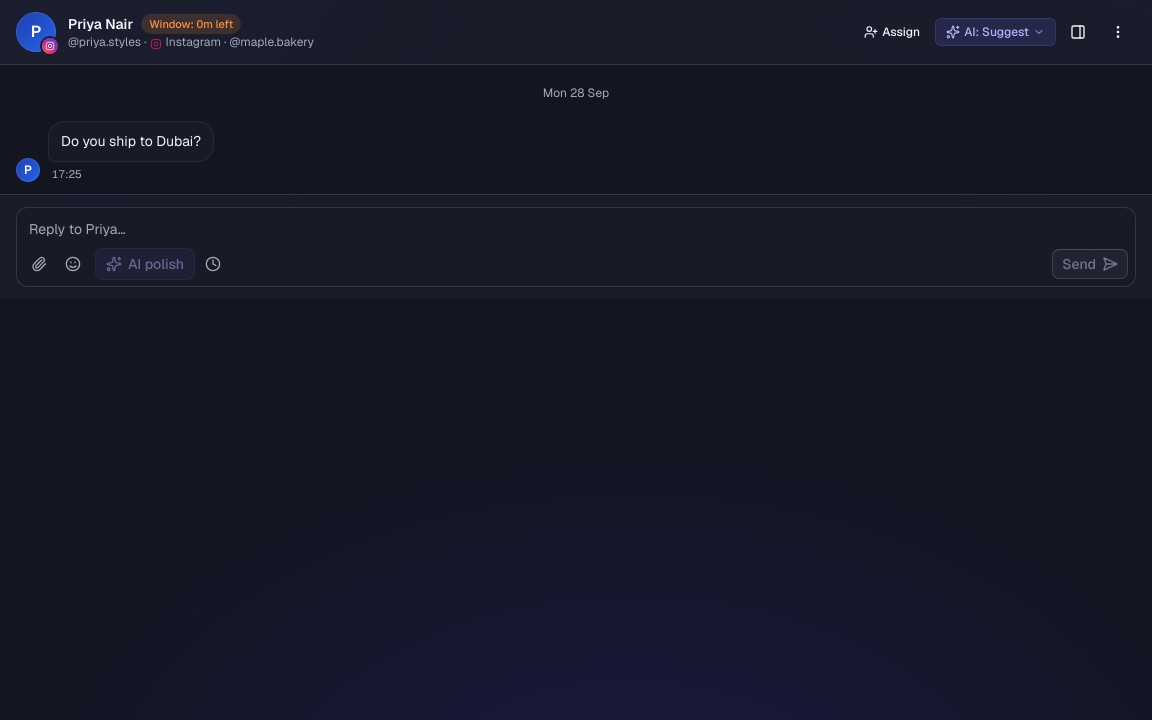
Test: ThreadView: optimistic send (TR-FE-05) › shows the field's reason when the API finds the request invalid
Expected: the text "Do you ship to Dubai?" is shown, [61,130,201,153]
Step 1. Type "Hello?" into the text box labelled "Reply to Priya…" → (576, 228), box [17,208,1135,248]
Then press Enter
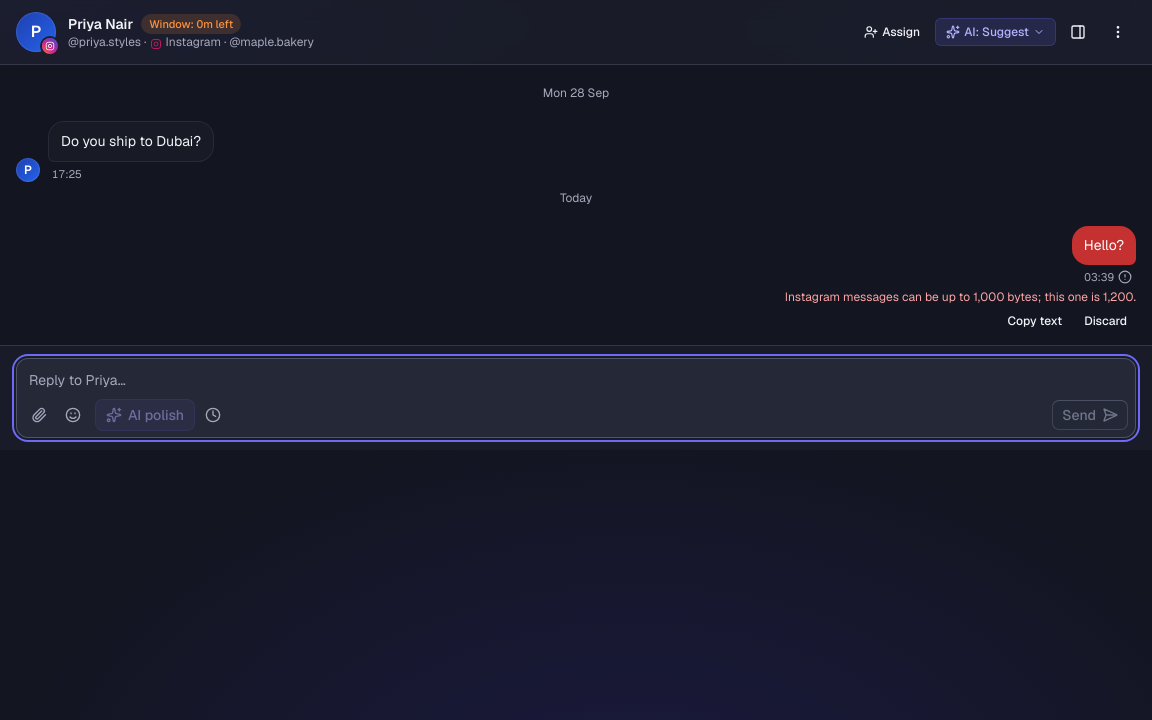
Now the message shows "Instagram messages can be up to 1,000 bytes; this one is 1,200.", box [785,288,1136,304]
